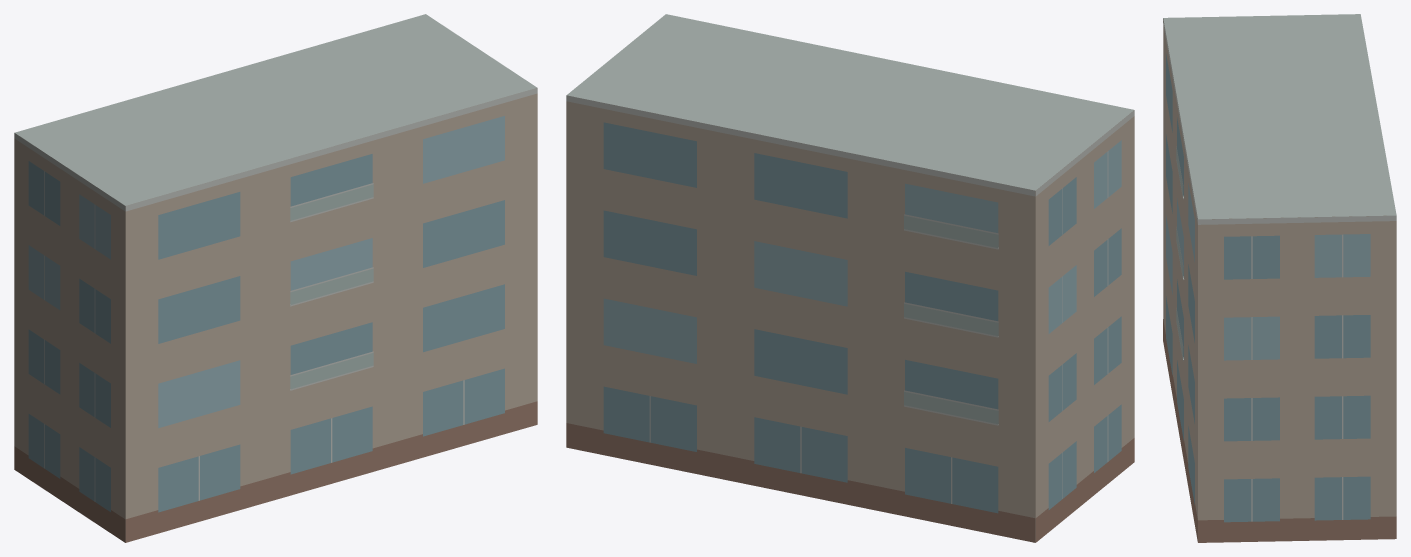
The model's file is survey-upis-32481957.glb.
3 renders of one model, left to right at view 1: azimuth 30°, elevation 25°; view 2: azimuth 150°, elevation 25°; view 3: azimuth 270°, elevation 25°, orthographic. The views are drawn at different scales.
Visible parts, largest first — view 1: survey-upis-32481957.tmp; view 2: survey-upis-32481957.tmp; view 3: survey-upis-32481957.tmp.
Boxes of the visible parts, x1=… form: survey-upis-32481957.tmp: x1=14, y1=14, x2=537, y2=542; survey-upis-32481957.tmp: x1=566, y1=14, x2=1134, y2=542; survey-upis-32481957.tmp: x1=1163, y1=14, x2=1396, y2=542.
Size of the model in its own units: 19.62 by 14.4 by 9.43.
